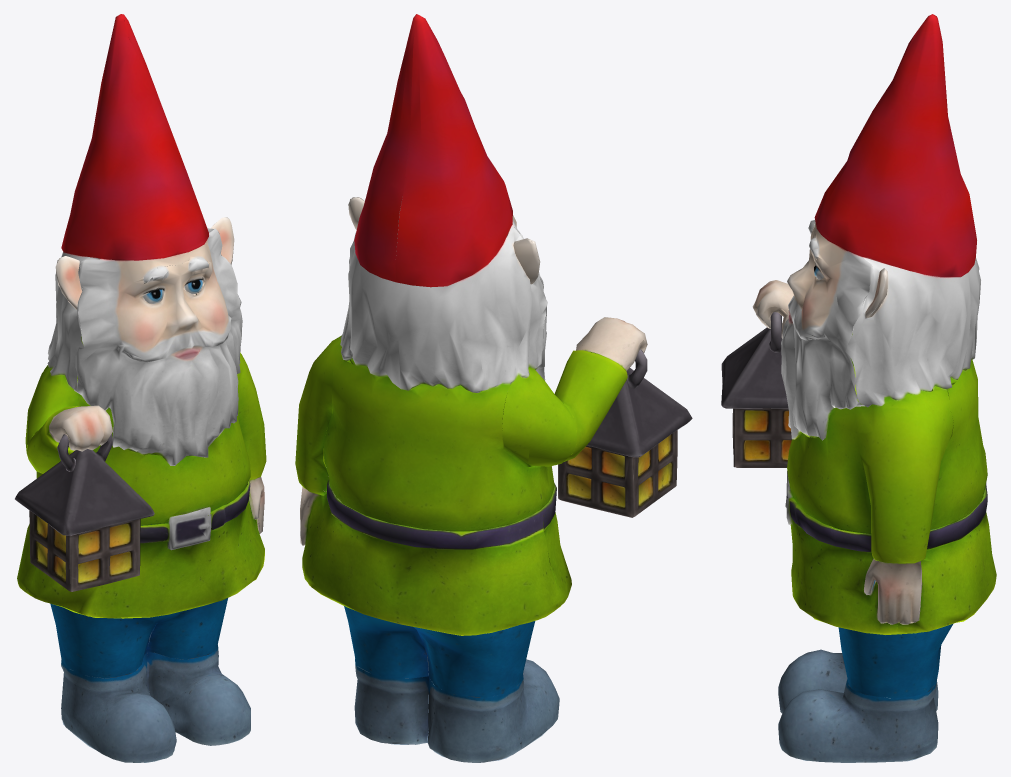
File: Decor_Gnome.obj
3 views of the same model, side by side, from view 1: azimuth 30°, elevation 25°; view 2: azimuth 150°, elevation 25°; view 3: azimuth 270°, elevation 25° (orthographic). The views are drawn at different scales.
Visible parts, largest first — view 1: Decor_Gnome; view 2: Decor_Gnome; view 3: Decor_Gnome.
Part boxes in pixels (left/top/right/bottom): Decor_Gnome: left=15, top=14, right=266, bottom=762; Decor_Gnome: left=295, top=14, right=692, bottom=762; Decor_Gnome: left=721, top=14, right=996, bottom=762.
Bounding box in the file's own units: 0.8596 × 2 × 0.701.
